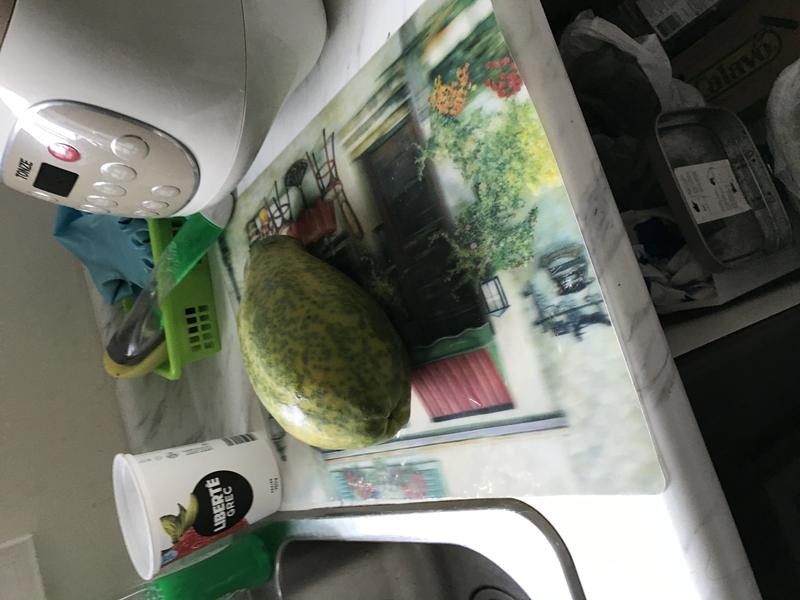papaya: (226, 228, 421, 462)
